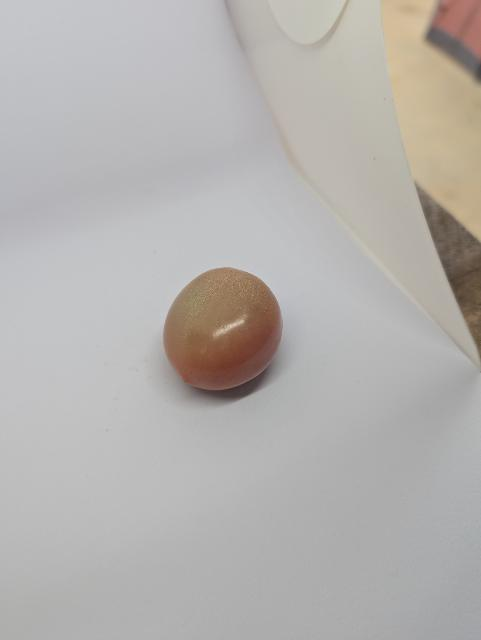turning: (160, 257, 298, 408)
